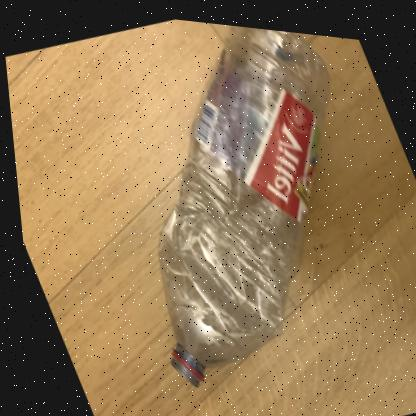Plastic: (154, 20, 329, 383)
